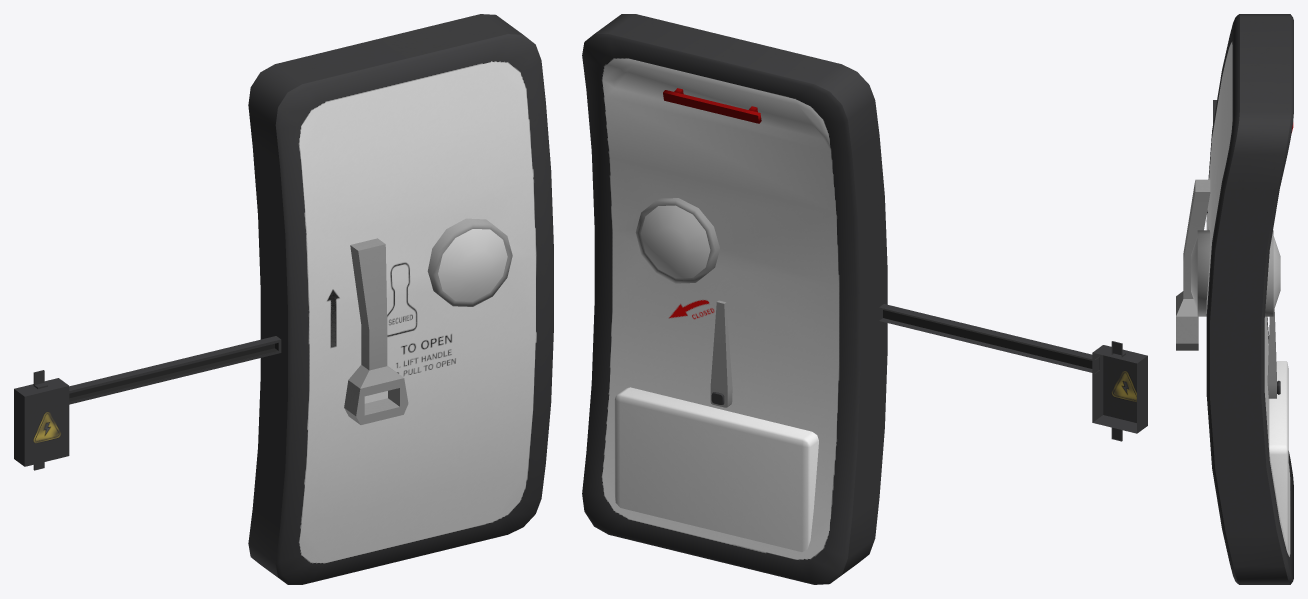
The picture shows the model from 3 angles, left to right: view 1: azimuth 30°, elevation 25°; view 2: azimuth 150°, elevation 25°; view 3: azimuth 270°, elevation 25°; orthographic projection. The views are drawn at different scales.
Visible parts, largest first — view 1: Puerta, Mecanismo_Rail_Entrada, Apertura_Exterior; view 2: Puerta, Mecanismo_Rail_Entrada, Apertura_Interior; view 3: Puerta, Apertura_Exterior, Apertura_Interior.
Part boxes in pixels (bbox=[...]): Puerta: bbox=[248, 14, 553, 584]; Mecanismo_Rail_Entrada: bbox=[14, 336, 281, 470]; Apertura_Exterior: bbox=[344, 238, 408, 424]; Puerta: bbox=[582, 14, 887, 584]; Mecanismo_Rail_Entrada: bbox=[879, 304, 1147, 441]; Apertura_Interior: bbox=[710, 300, 732, 407]; Puerta: bbox=[1191, 14, 1293, 584]; Apertura_Exterior: bbox=[1176, 179, 1210, 350]; Apertura_Interior: bbox=[1267, 309, 1280, 398].
Bounding box in the file's own units: 1.98 × 1.8 × 0.4088.
Materials: 2 (1 with a texture image).
